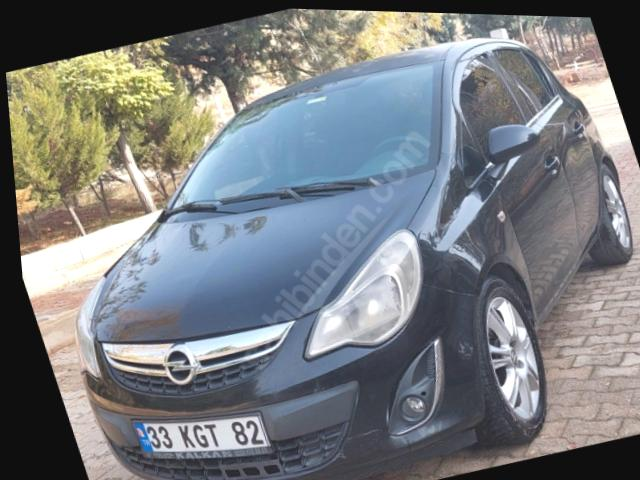plaka: (133, 415, 270, 453)
